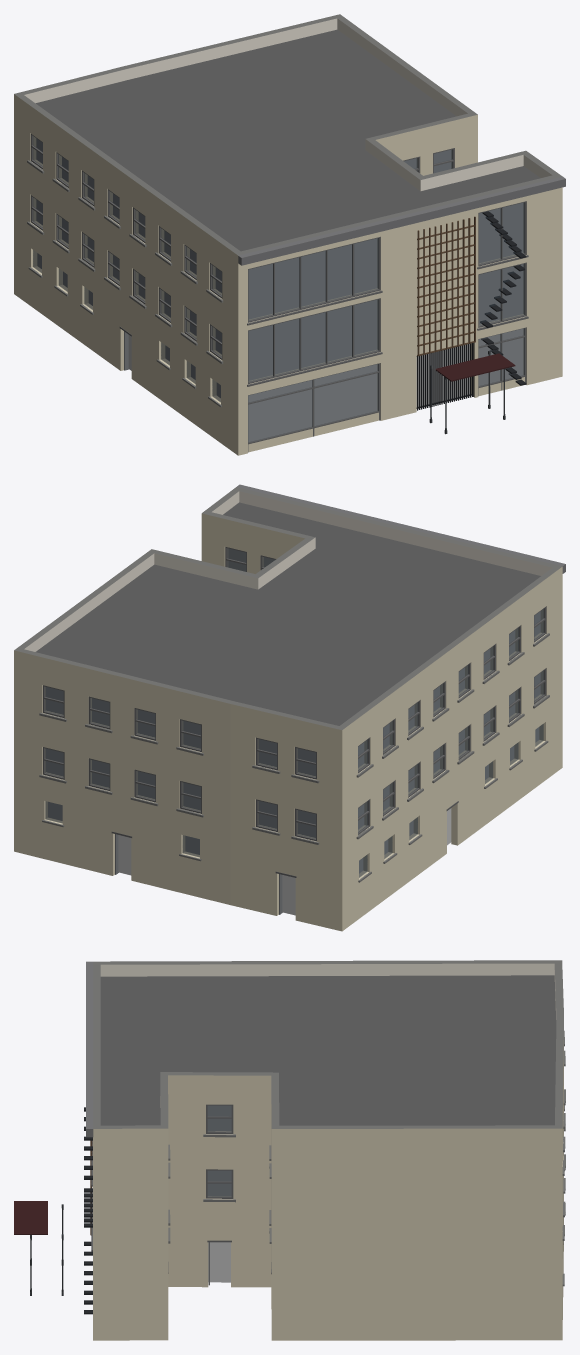
The model's file is exterior.glb.
The picture shows the model from 3 angles, top to bottom: view 1: azimuth 30°, elevation 25°; view 2: azimuth 150°, elevation 25°; view 3: azimuth 270°, elevation 25°; orthographic projection. The views are drawn at different scales.
Visible parts, largest first — view 1: shell, roof, glazing, shadow-proxy, hand-ornament, frames, storefront, fascia, trim; view 2: shell, roof, glazing, shadow-proxy, frames, trim, fascia; view 3: shell, roof, hand-ornament, shadow-proxy, fascia, glazing, trim, frames.
Part boxes in pixels (box(x1,y1,x2,y2)): shell: box(14, 14, 562, 455); roof: box(36, 29, 540, 251); glazing: box(33, 136, 524, 442); shadow-proxy: box(36, 139, 522, 441); hand-ornament: box(417, 211, 526, 434); frames: box(30, 134, 526, 384); storefront: box(119, 326, 526, 452); fascia: box(238, 176, 565, 265); trim: box(27, 160, 528, 407); shell: box(14, 487, 562, 931); roof: box(36, 502, 540, 725); glazing: box(45, 548, 543, 877); shadow-proxy: box(46, 549, 540, 915); frames: box(43, 547, 546, 841); trim: box(39, 633, 549, 882); fascia: box(237, 484, 565, 573); shell: box(93, 960, 563, 1340); roof: box(100, 975, 556, 1125); hand-ornament: box(14, 1107, 92, 1314); shadow-proxy: box(208, 1106, 231, 1282); fascia: box(86, 961, 93, 1137); glazing: box(207, 1105, 231, 1196); trim: box(91, 1030, 565, 1286); frames: box(206, 1104, 233, 1198).
Size of the model in its own units: 17.76 by 10.34 by 24.43.
